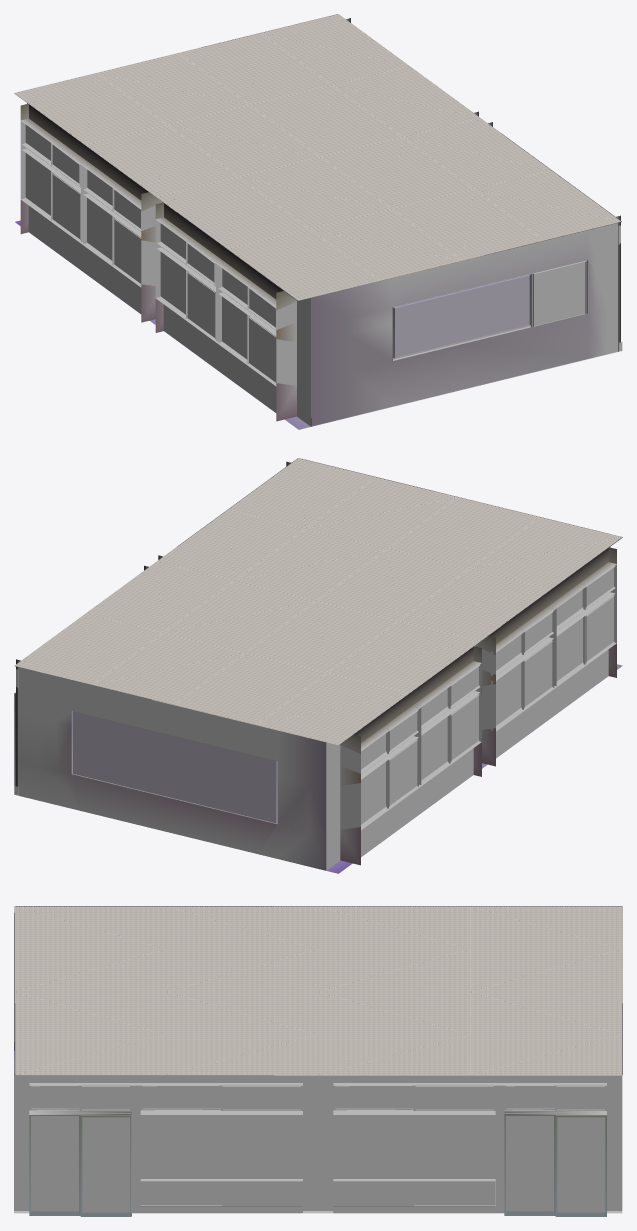
Rendered from JpClasRoom_OffShadow.FBX.
3 views of the same model, one above another, from view 1: azimuth 30°, elevation 25°; view 2: azimuth 150°, elevation 25°; view 3: azimuth 270°, elevation 25° (orthographic). The views are drawn at different scales.
Visible parts, largest first — view 1: crm_ceiling board000, crm_wallL, crm_wallB, crm_blackboardB, crm_floor; view 2: crm_ceiling board000, crm_wallL, rm_wallF, crm_blackboardF; view 3: crm_ceiling board000, crm_wallR, crm_doorL_b, crm_doorL_f, crm_doorR_b, crm_doorR_f.
Part boxes in pixels (x1,y1,x2,y2): crm_ceiling board000: (14, 14, 621, 300); crm_wallL: (20, 103, 310, 426); crm_wallB: (311, 223, 617, 426); crm_blackboardB: (392, 273, 530, 360); crm_floor: (15, 220, 622, 429); crm_ceiling board000: (14, 458, 622, 744); crm_wallL: (326, 547, 616, 870); rm_wallF: (18, 667, 326, 870); crm_blackboardF: (71, 711, 277, 824); crm_ceiling board000: (14, 906, 622, 1075); crm_wallR: (14, 1073, 622, 1215); crm_doorL_b: (80, 1115, 131, 1216); crm_doorL_f: (555, 1115, 606, 1216); crm_doorR_b: (29, 1115, 80, 1215); crm_doorR_f: (504, 1115, 555, 1215).
Bounding box in the file's own units: 828 × 303 × 1201.
